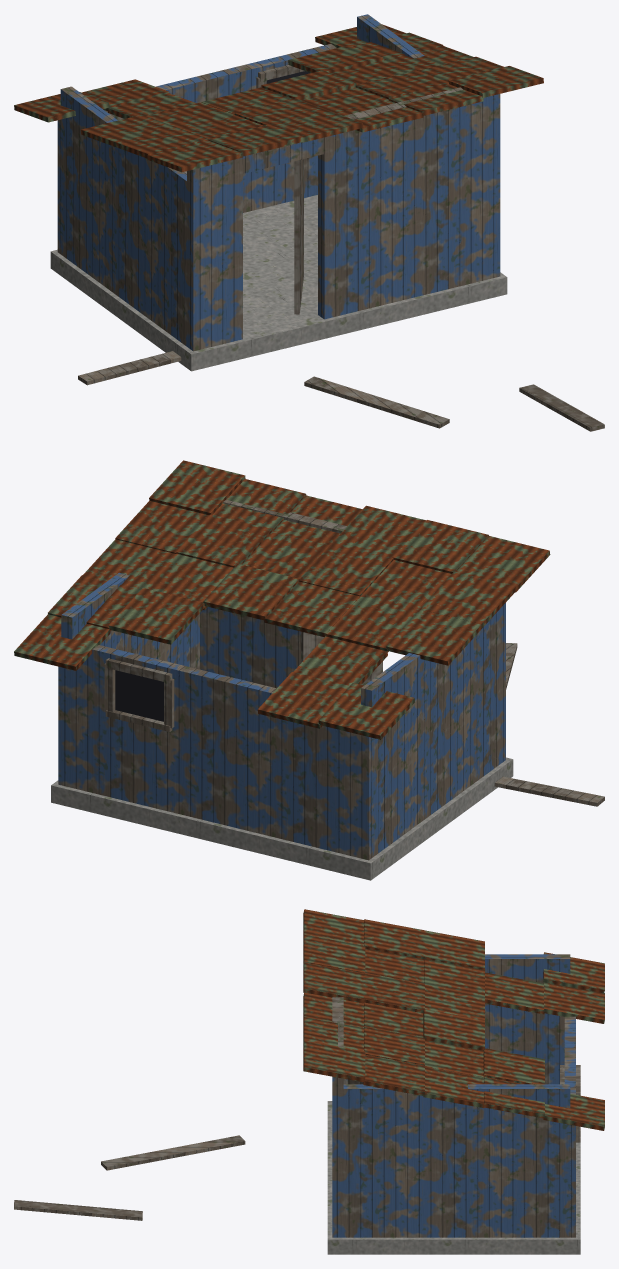
The model's file is shed_blue.glb.
3 renders of one model, top to bottom at view 1: azimuth 30°, elevation 25°; view 2: azimuth 150°, elevation 25°; view 3: azimuth 270°, elevation 25°, orthographic. The views are drawn at different scales.
Parts seen in each view (by area): view 1: shed_blue; view 2: shed_blue; view 3: shed_blue.
Boxes of the visible parts, box(x1,y1,x2,y2) form: shed_blue: box(14, 14, 604, 431); shed_blue: box(14, 460, 604, 880); shed_blue: box(14, 909, 604, 1254).
Size of the model in its own units: 4.84 by 2.33 by 6.31.
5 materials, 4 textured.
